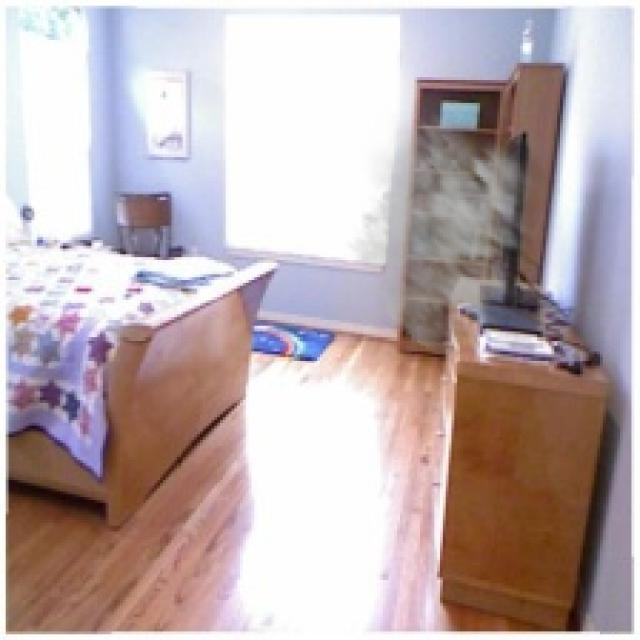smoke: (346, 103, 566, 363)
